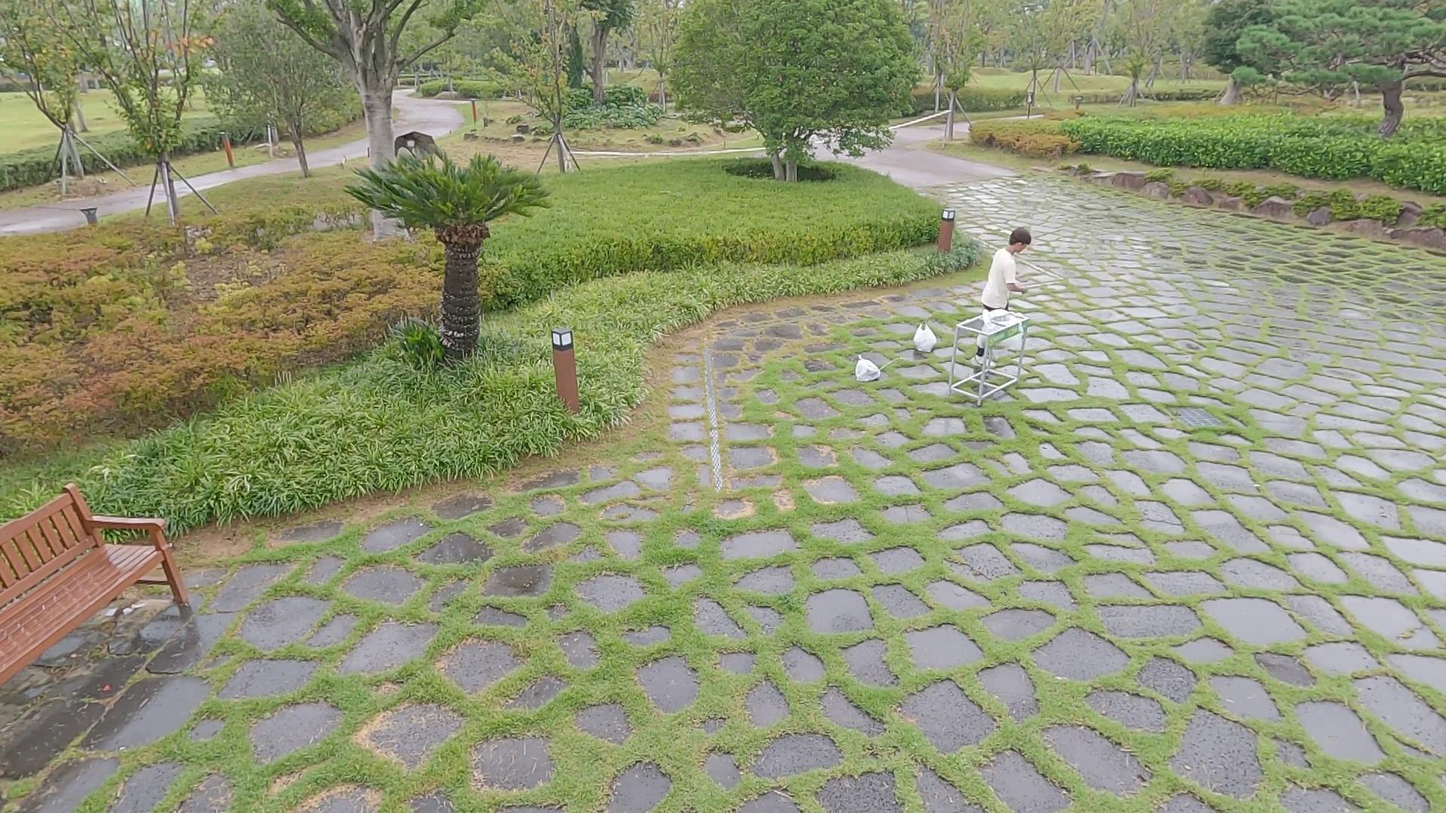person: (977, 222, 1032, 382)
trash: (854, 350, 883, 386), (912, 322, 938, 357)
